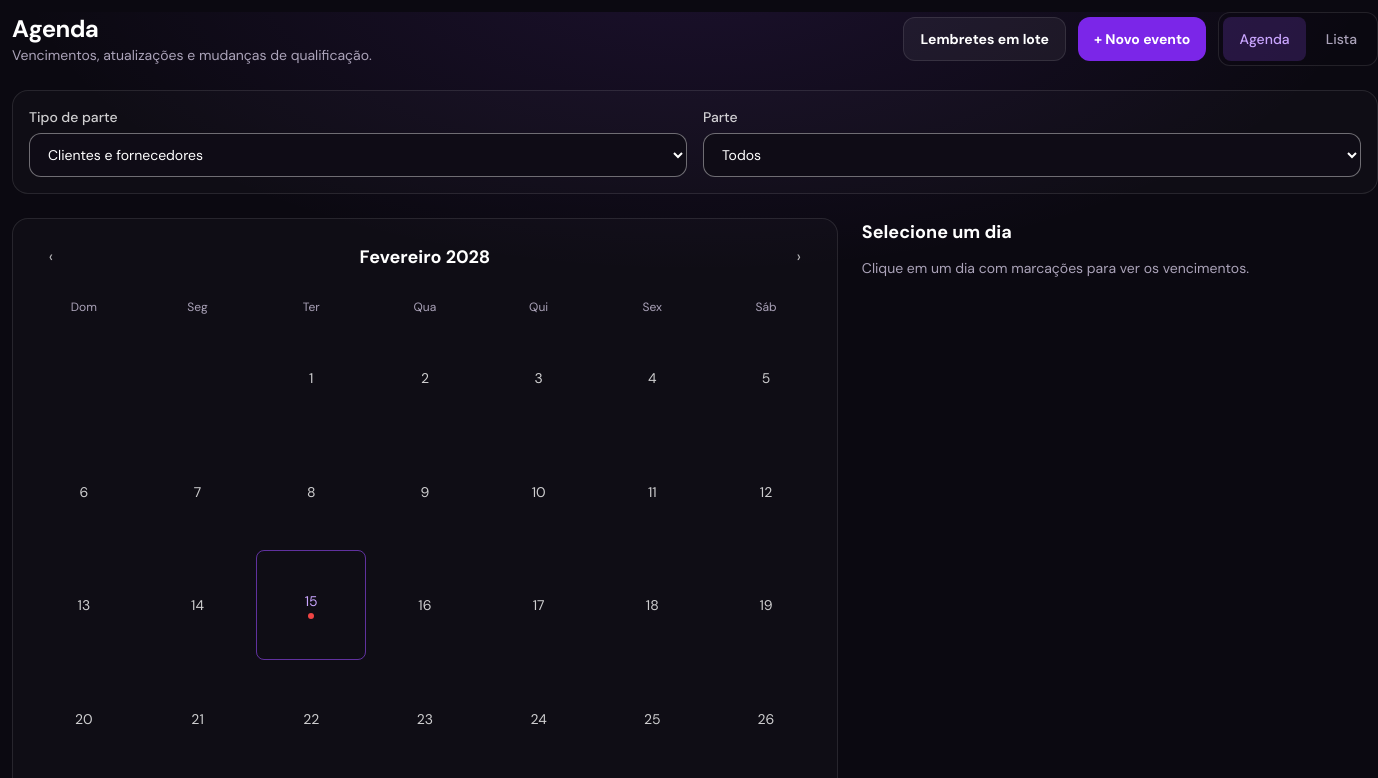
Test case: navegação acessível da agenda › limpa seleção e detalhes ao mudar de mês e não os restaura ao voltar
Click the button named "15/02/2028: 1 evento" at (311, 605), box [256,550,366,660]
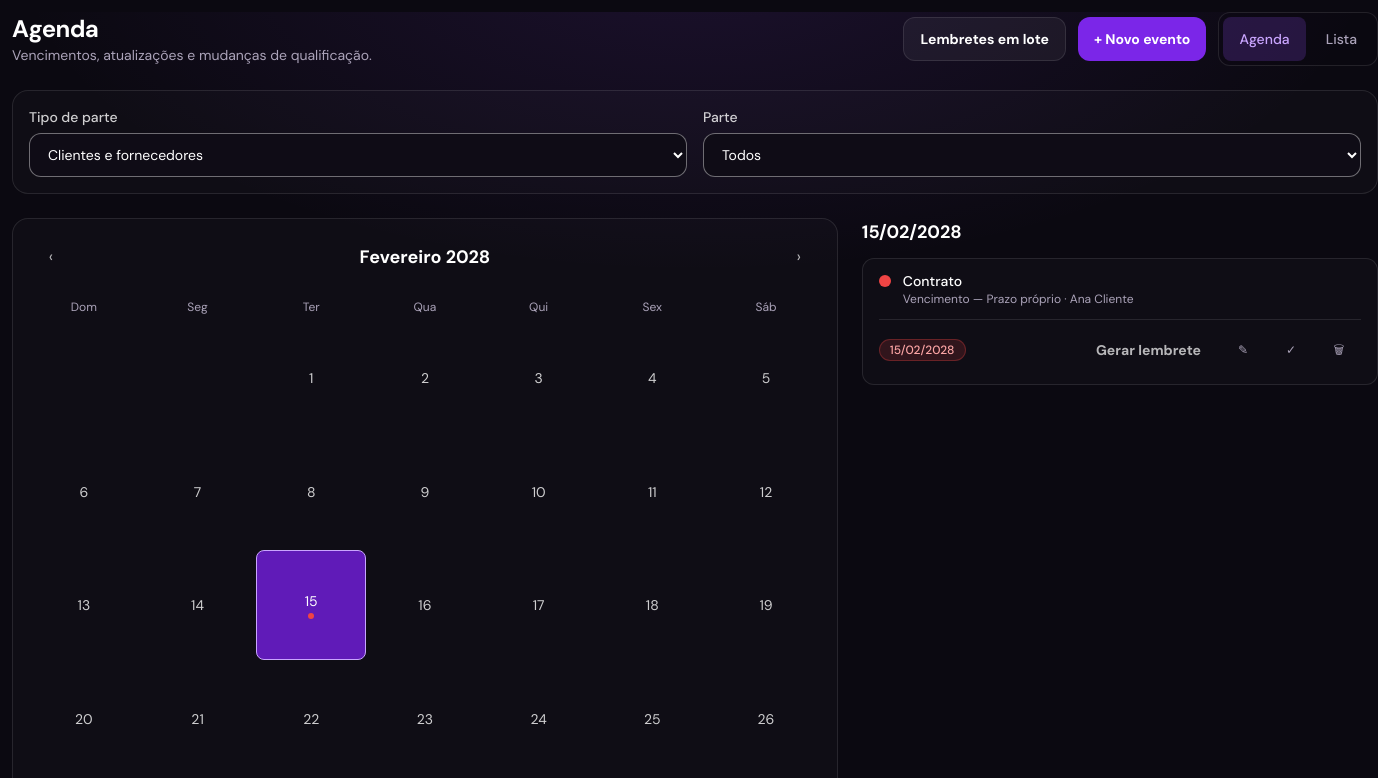
Expected: the heading "15/02/2028" is shown, [862,220,962,244]
Expected: the text "Vencimento — Prazo próprio · Ana Cliente" is shown, [903,291,1134,307]
Click the button named "Próximo mês" at (799, 257), box [777,235,821,279]
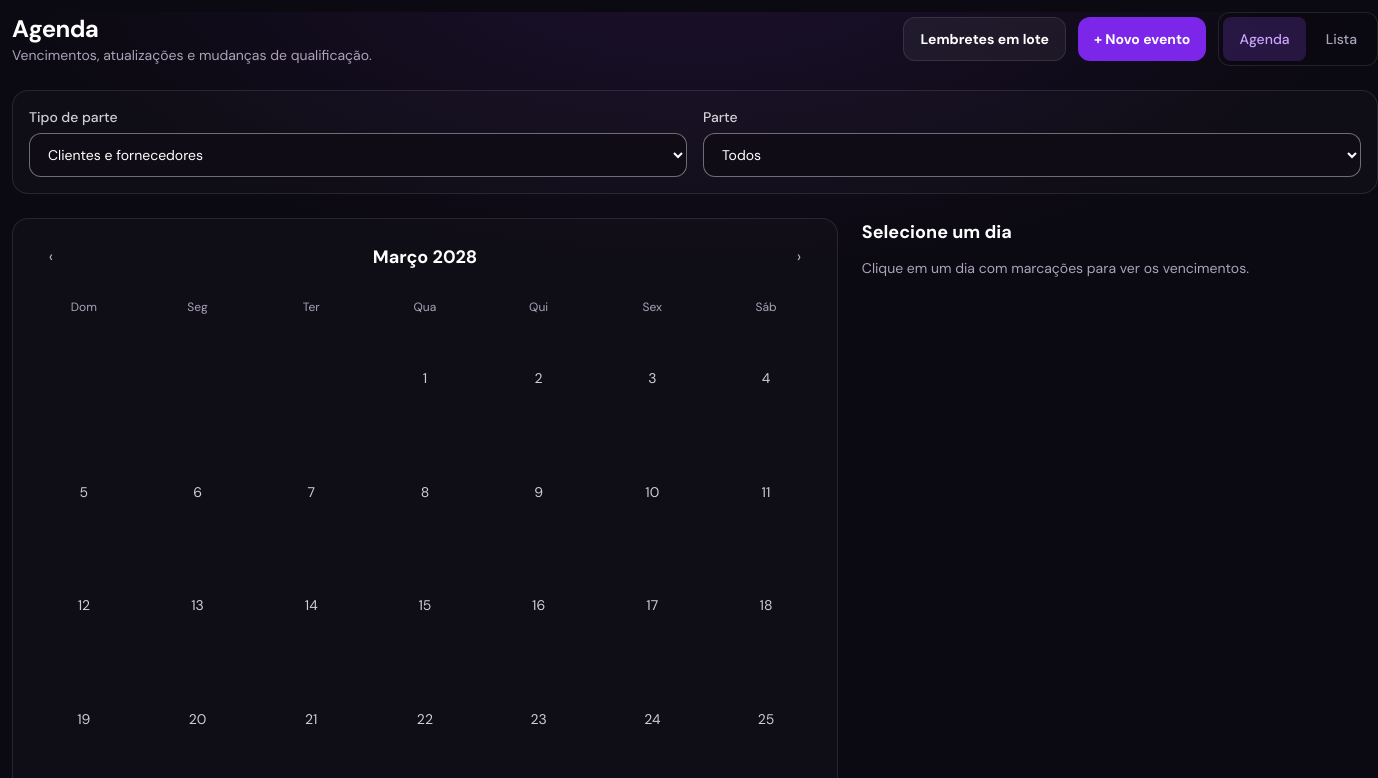
Expected: the heading "Março 2028" is shown, [373,243,477,271]
Expected: the heading "Selecione um dia" is shown, [862,220,1012,244]
Expected: the text "Prazo próprio" is gone
Click the button named "Mês anterior" at (51, 257), box [29,235,73,279]
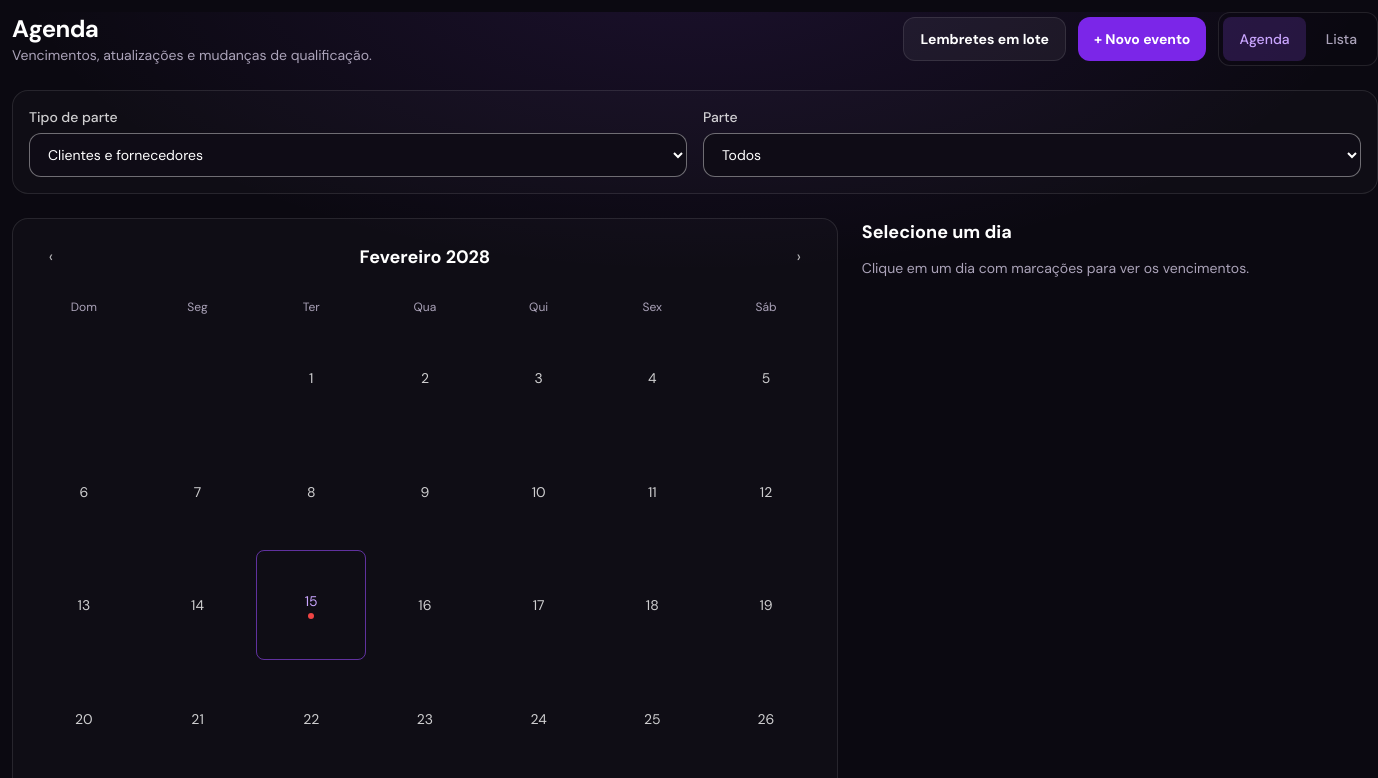
Expected: the heading "Selecione um dia" is shown, [862,220,1012,244]
Expected: the heading "Fevereiro 2028" is shown, [360,243,490,271]
